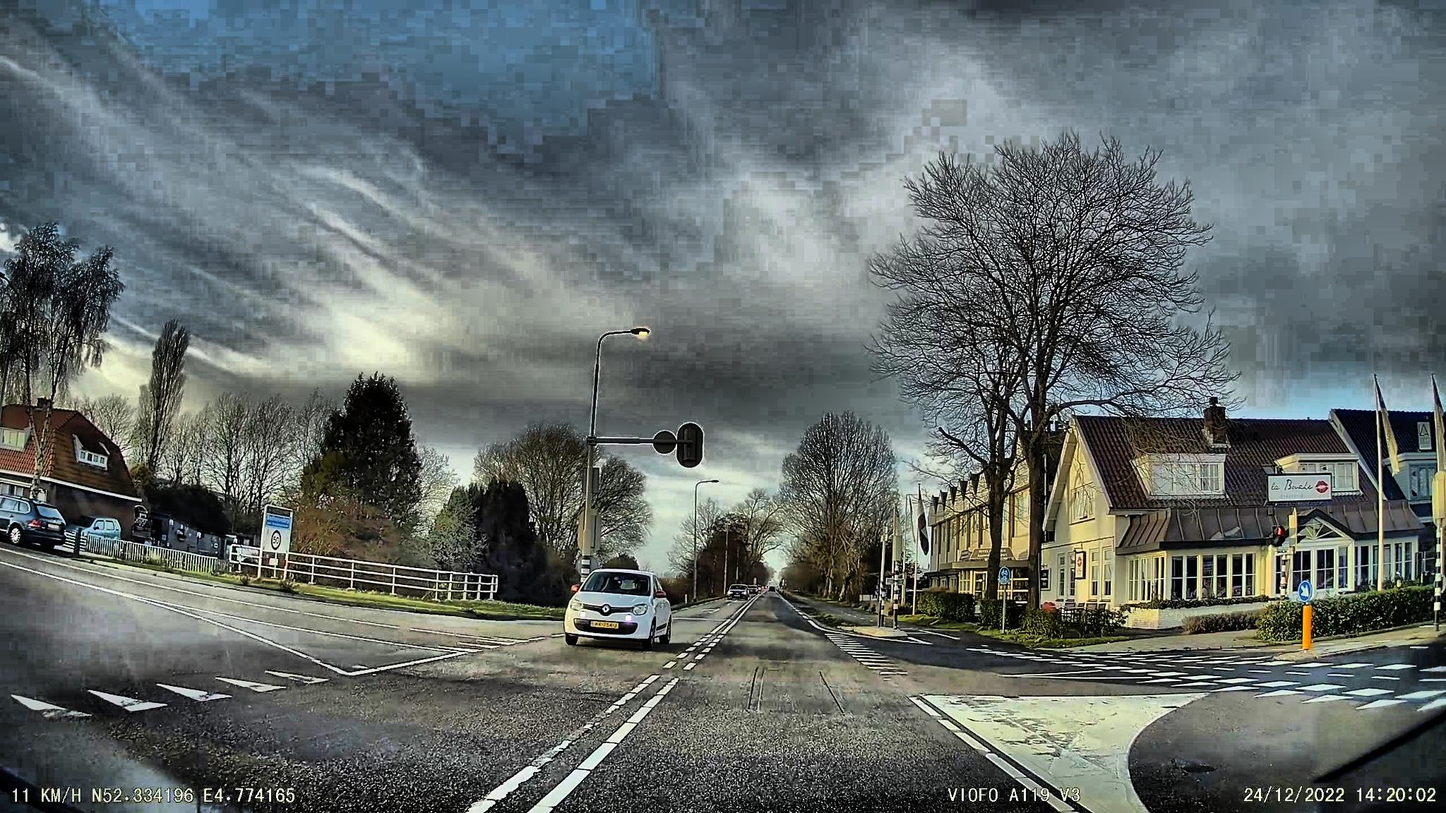Roads: (0, 543, 1446, 813)
